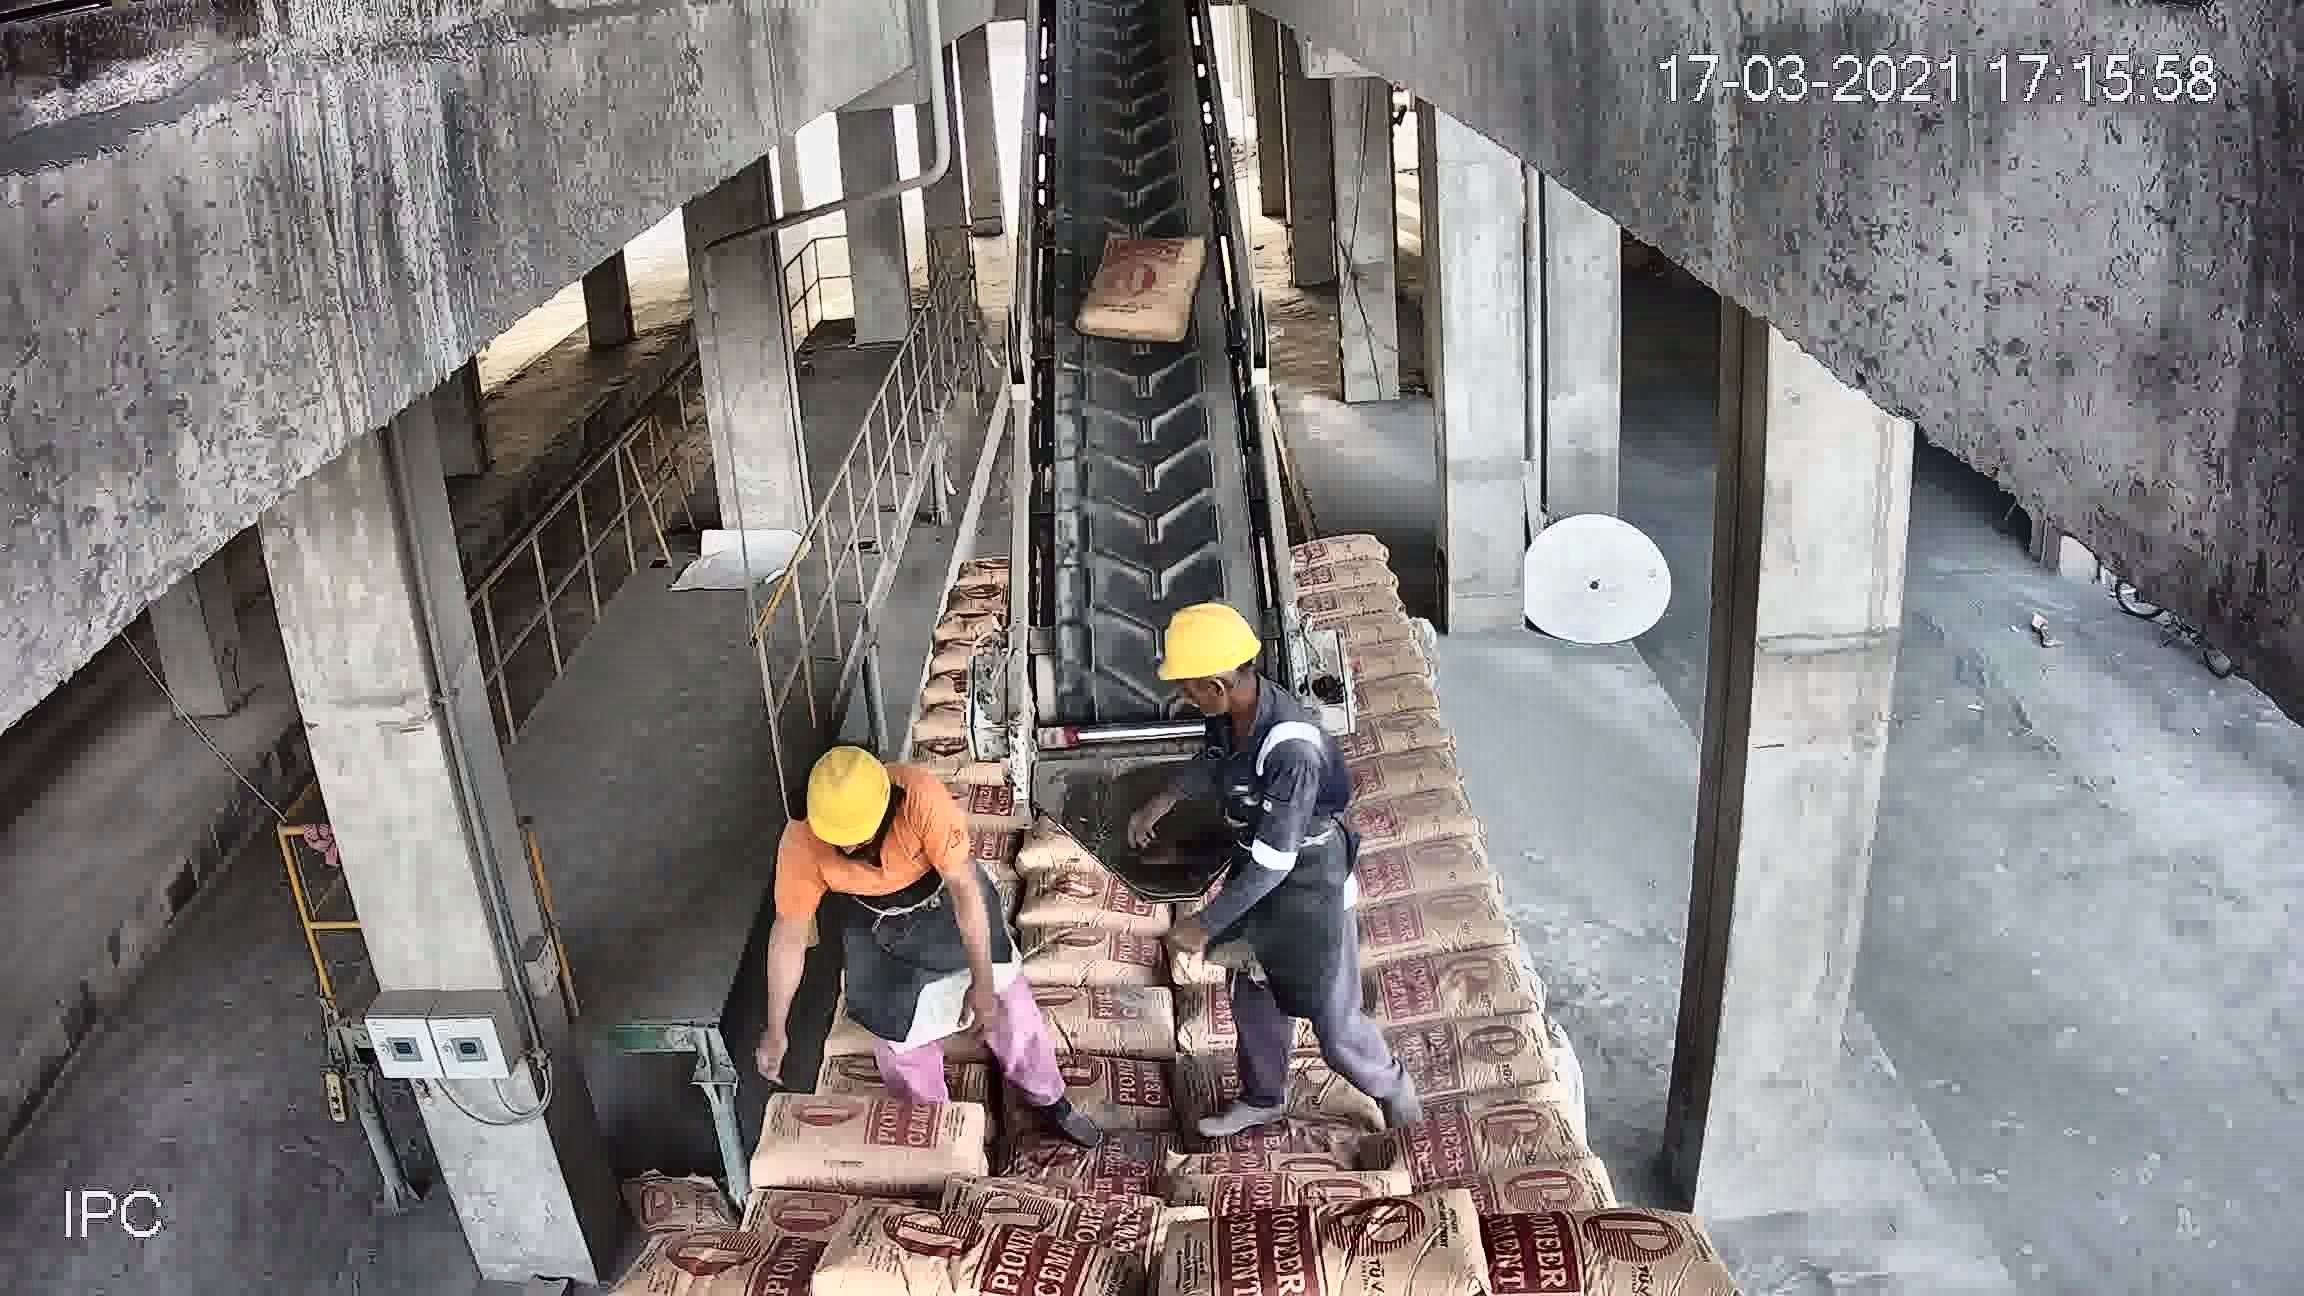bag: (1000, 0, 1287, 832), (1070, 222, 1206, 347)
bag_h: (1214, 1211, 1522, 1296), (1438, 1204, 1700, 1296), (742, 1097, 987, 1188), (817, 1222, 1116, 1296), (1372, 1092, 1573, 1188), (642, 1226, 851, 1296), (1358, 945, 1529, 1027), (1348, 880, 1514, 961), (1397, 1014, 1551, 1097), (1343, 829, 1492, 907), (1011, 929, 1171, 999), (1347, 786, 1472, 869), (1022, 866, 1165, 930), (1035, 992, 1173, 1057), (1298, 585, 1408, 628), (1305, 562, 1400, 598), (1298, 538, 1393, 563)
